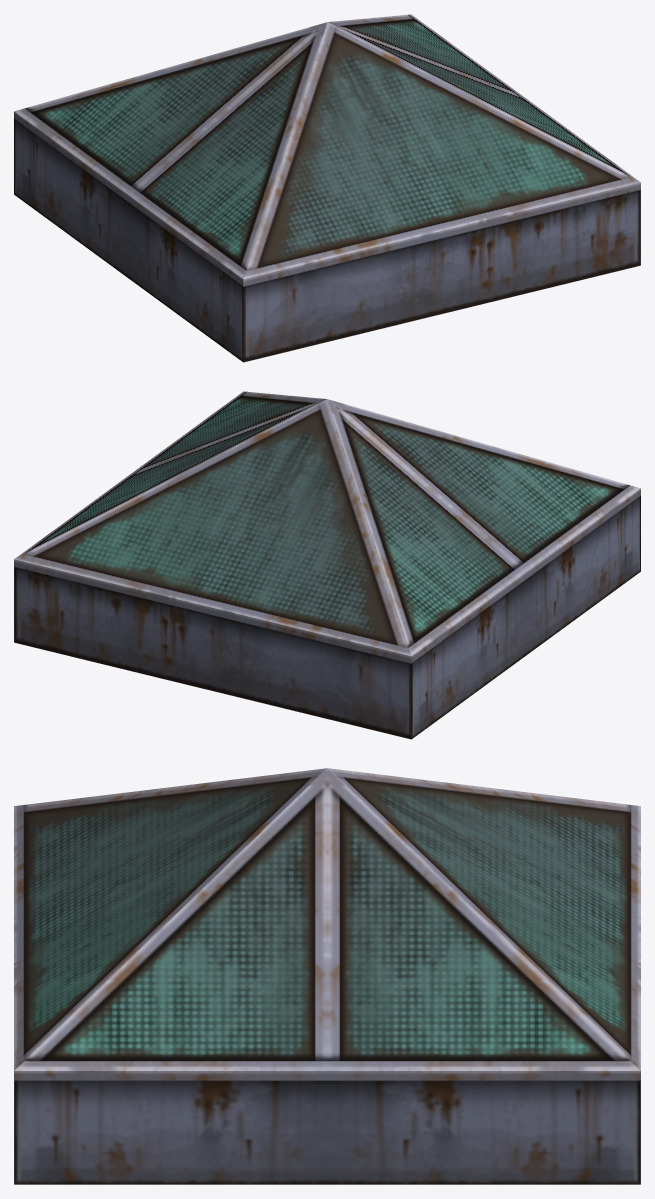
File: skylight01.fbx
3 renders of one model, top to bottom at view 1: azimuth 30°, elevation 25°; view 2: azimuth 150°, elevation 25°; view 3: azimuth 270°, elevation 25°, orthographic. The views are drawn at different scales.
Parts seen in each view (by area): view 1: skylight01; view 2: skylight01; view 3: skylight01.
Part boxes in pixels (box(x1,y1,x2,y2)): skylight01: box(14, 14, 640, 362); skylight01: box(14, 391, 640, 739); skylight01: box(14, 768, 640, 1184).
Bounding box in the file's own units: 200 × 100 × 200.
